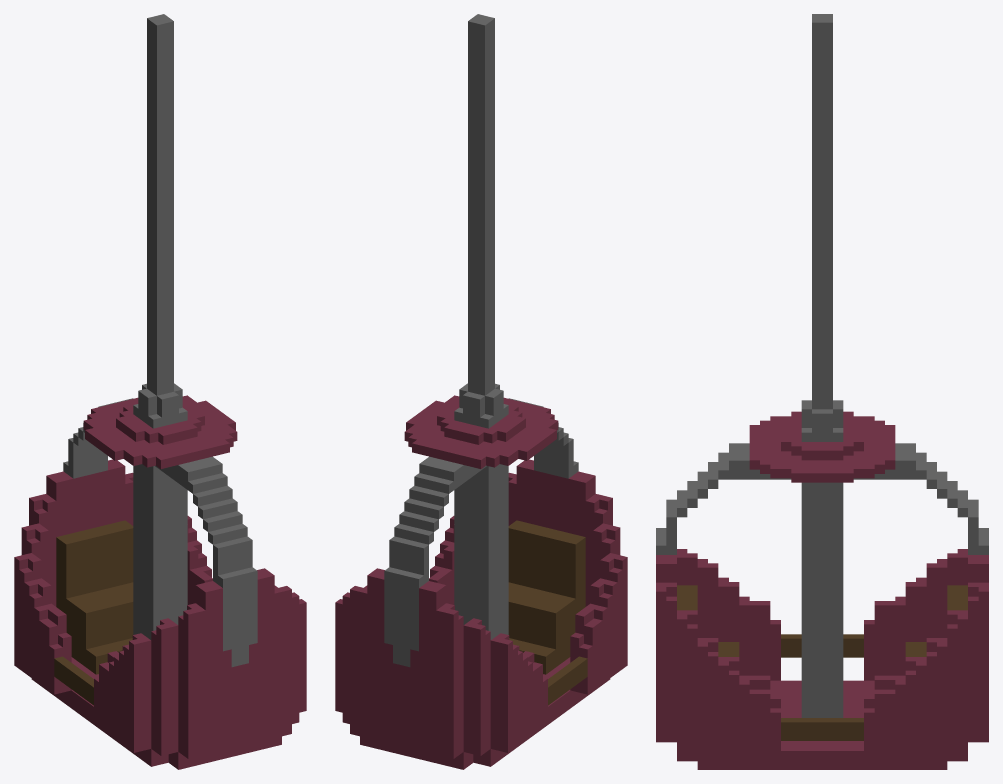
Rendered from swings-0.obj.
3 renders of one model, left to right at view 1: azimuth 30°, elevation 25°; view 2: azimuth 150°, elevation 25°; view 3: azimuth 270°, elevation 25°, orthographic. The views are drawn at different scales.
Size of the model in its own units: 2 by 7.6 by 3.2.
1 material, 1 textured.
